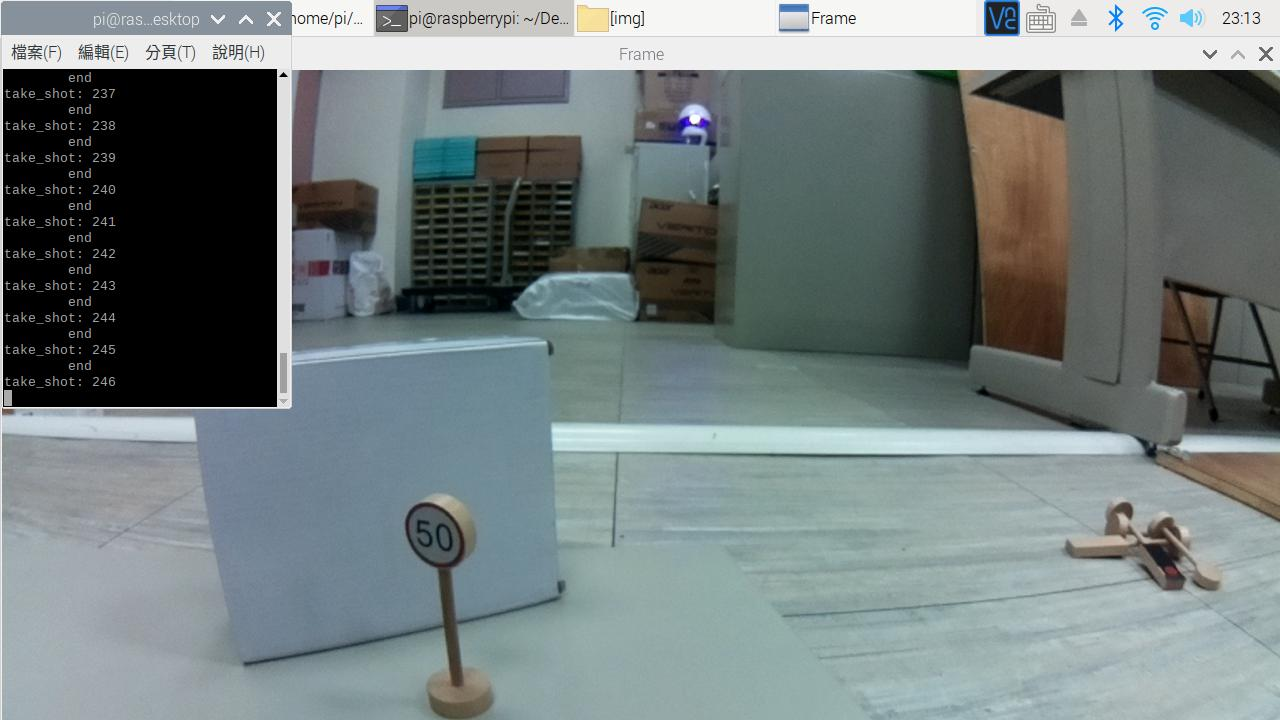Speed50: (387, 491, 499, 581)
